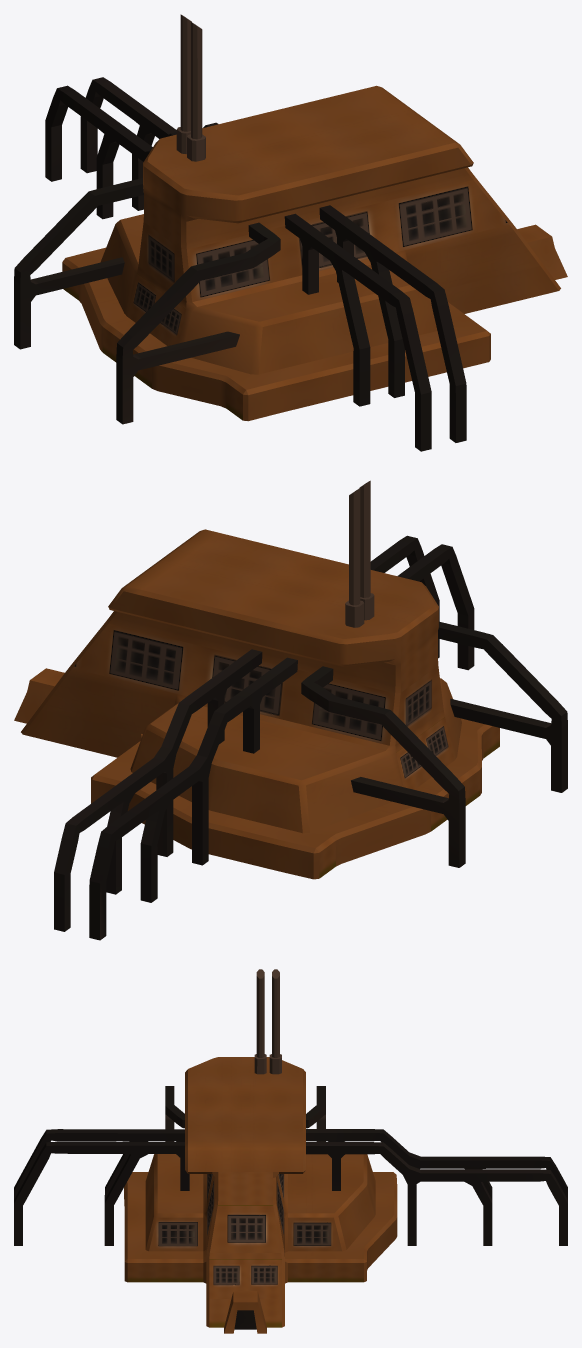
File: steampunkgebouw2.fbx
3 renders of one model, top to bottom at view 1: azimuth 30°, elevation 25°; view 2: azimuth 150°, elevation 25°; view 3: azimuth 270°, elevation 25°, orthographic. The views are drawn at different scales.
Visible parts, largest first — view 1: Industry.019; view 2: Industry.019; view 3: Industry.019.
Part boxes in pixels (left/top/right/bottom): Industry.019: left=14, top=14, right=567, bottom=451; Industry.019: left=14, top=480, right=567, bottom=940; Industry.019: left=14, top=969, right=567, bottom=1333.
Bounding box in the file's own units: 1367 × 868 × 1830.
